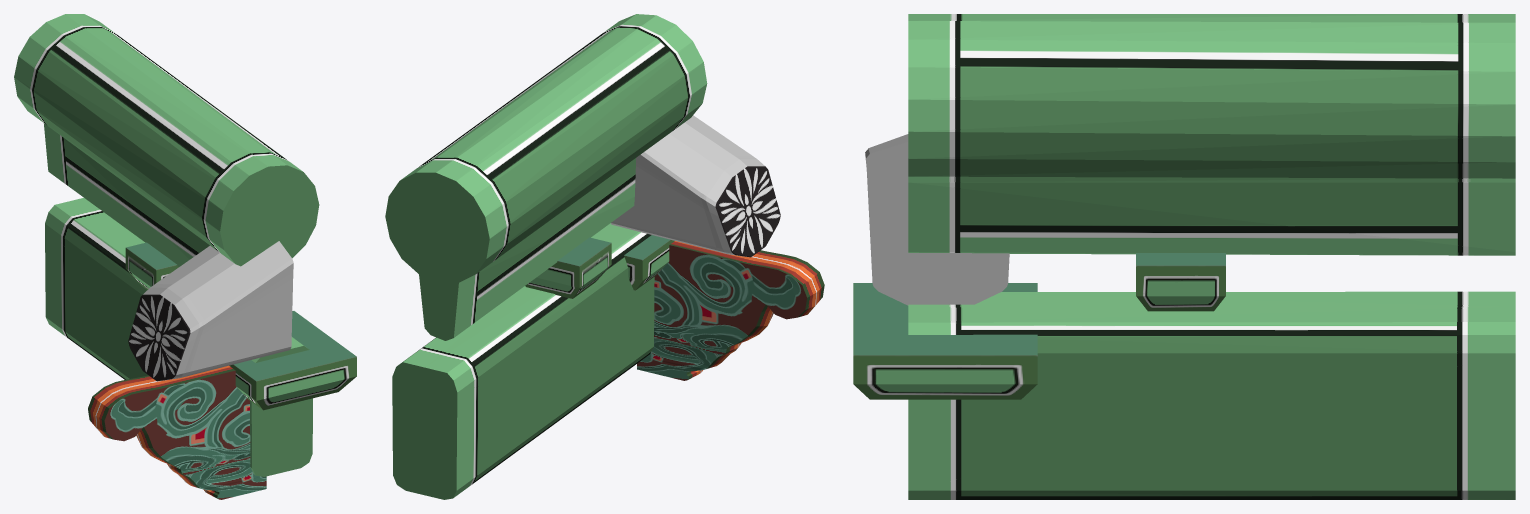
The model's file is SM_R_Dancheong_11.fbx.
3 renders of one model, left to right at view 1: azimuth 30°, elevation 25°; view 2: azimuth 150°, elevation 25°; view 3: azimuth 270°, elevation 25°, orthographic. The views are drawn at different scales.
Visible parts, largest first — view 1: SM_R_Dancheong_11_LOD0; view 2: SM_R_Dancheong_11_LOD0; view 3: SM_R_Dancheong_11_LOD0.
Part boxes in pixels (x1,y1,x2,y2): SM_R_Dancheong_11_LOD0: (14, 14, 356, 499); SM_R_Dancheong_11_LOD0: (385, 14, 824, 499); SM_R_Dancheong_11_LOD0: (853, 14, 1515, 499).
Size of the model in its own units: 70.2 by 118 by 93.56.
